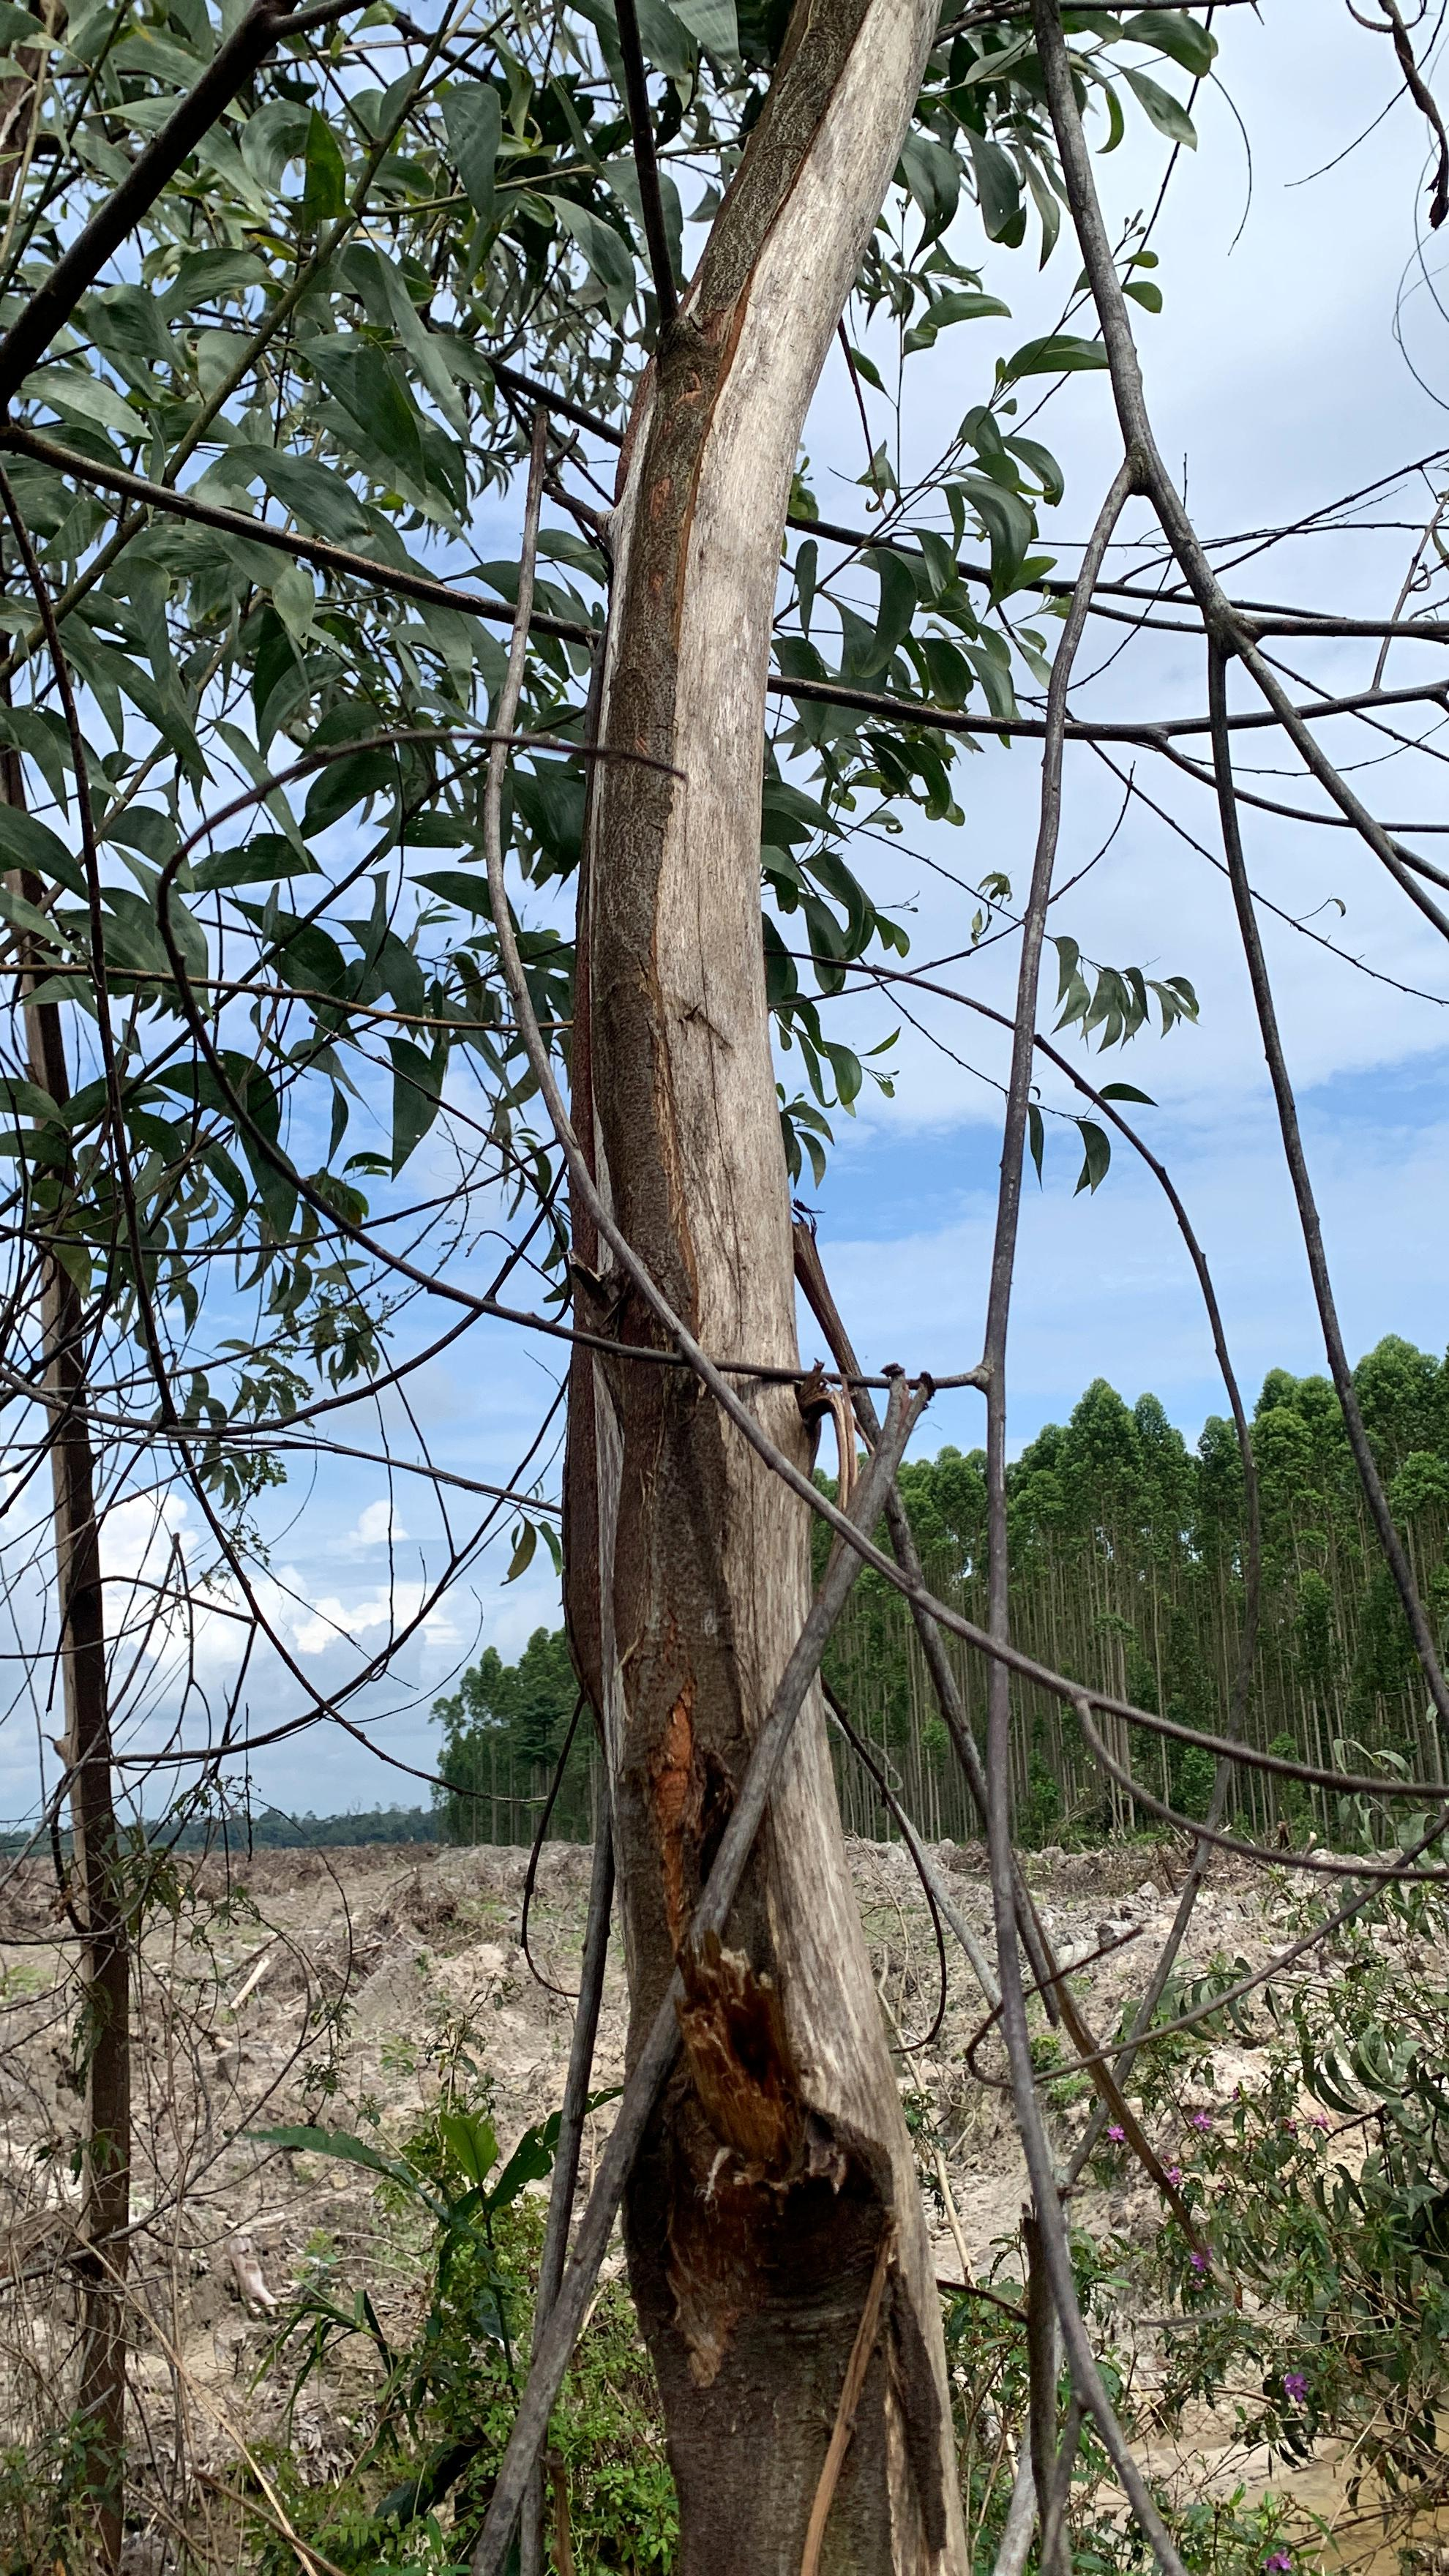Leaf Roller - Leaf: (571, 0, 987, 2576)
